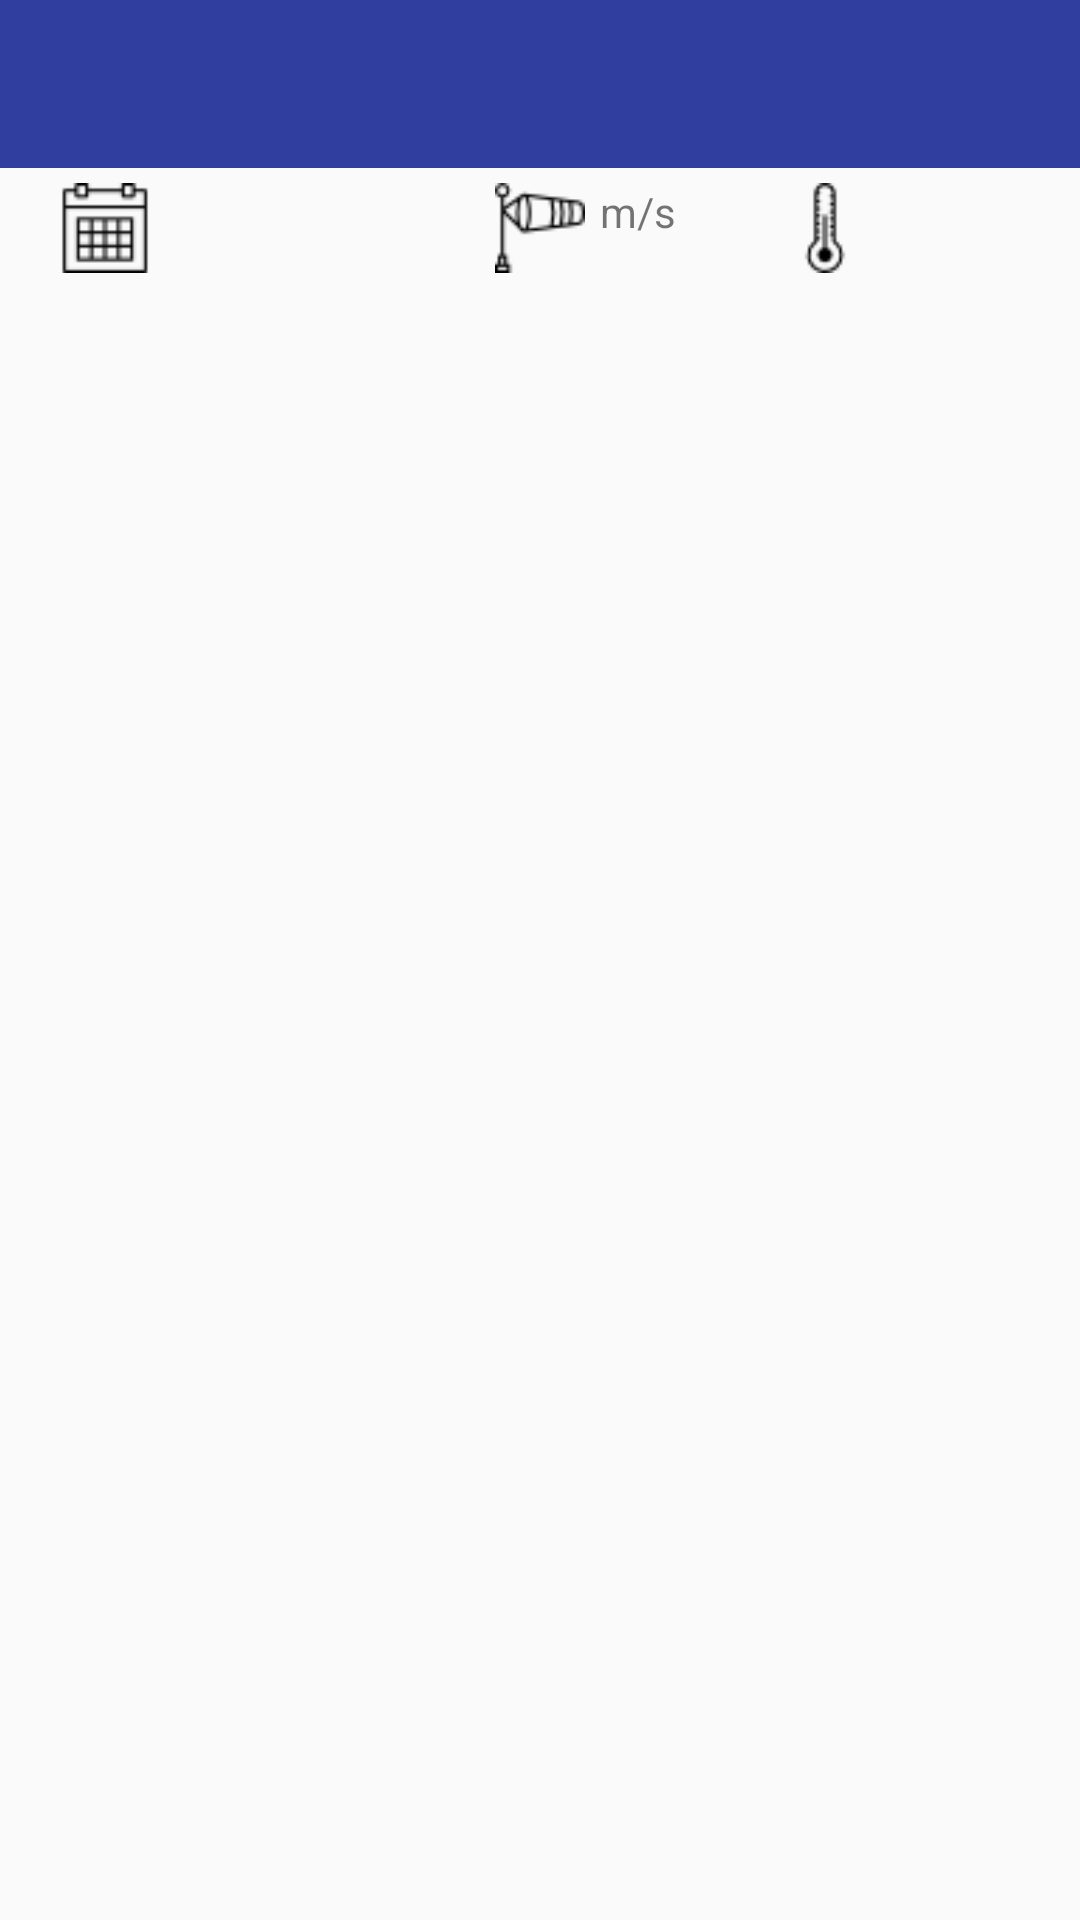

Icons on this 1080px x 1920px Android screen, each with its box as detection(x1, y1, x2, y2):
calendar: detection(62, 183, 148, 273)
temperature: detection(805, 183, 845, 273)
wind: detection(495, 183, 585, 273)
